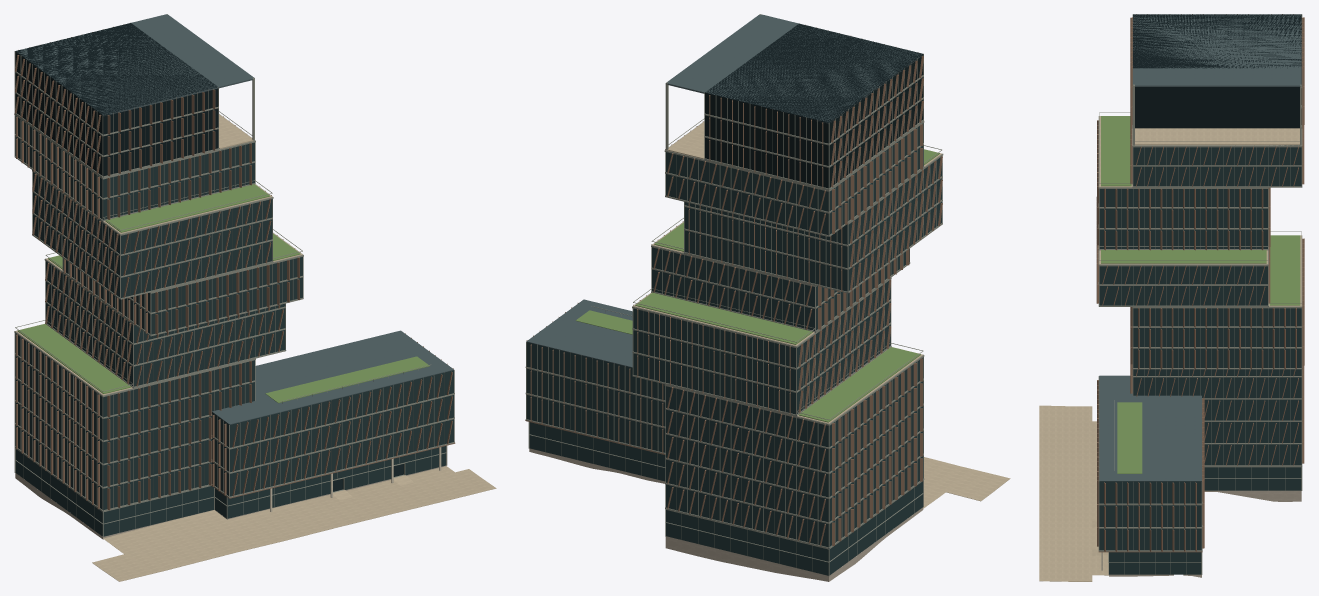
File: cds-full.glb
3 views of the same model, side by side, from view 1: azimuth 30°, elevation 25°; view 2: azimuth 150°, elevation 25°; view 3: azimuth 270°, elevation 25° (orthographic). The views are drawn at different scales.
Parts seen in each view (by area): view 1: BU architecture · glass, BU architecture · bronze, BU architecture · frame, BU architecture · glassShade, BU architecture · roof, BU ground · paving, BU architecture · grass, BU architecture · paving, BU architecture · stone; view 2: BU architecture · glass, BU architecture · bronze, BU architecture · frame, BU architecture · glassShade, BU architecture · roof, BU architecture · grass, BU architecture · stone, BU ground · paving, BU architecture · paving; view 3: BU architecture · glass, BU architecture · roof, BU architecture · glassShade, BU architecture · frame, BU architecture · bronze, BU ground · paving, BU architecture · grass, BU architecture · paving, BU architecture · stone.
Boxes of the visible parts, box(x1,y1,x2,y2) form: BU architecture · glass: box(15, 116, 453, 536); BU architecture · bronze: box(14, 26, 455, 510); BU architecture · frame: box(14, 14, 454, 537); BU architecture · glassShade: box(15, 23, 403, 491); BU architecture · roof: box(16, 14, 453, 511); BU ground · paving: box(92, 466, 496, 581); BU architecture · grass: box(17, 184, 429, 403); BU architecture · paving: box(15, 114, 302, 395); BU architecture · stone: box(15, 465, 446, 539); BU architecture · glass: box(526, 123, 942, 575); BU architecture · bronze: box(525, 24, 942, 545); BU architecture · frame: box(525, 14, 943, 576); BU architecture · glassShade: box(705, 23, 923, 188); BU architecture · roof: box(526, 14, 924, 548); BU architecture · grass: box(575, 149, 939, 422); BU architecture · stone: box(529, 448, 923, 581); BU ground · paving: box(923, 457, 1010, 508); BU architecture · paving: box(633, 122, 941, 423); BU architecture · glass: box(1099, 145, 1301, 574); BU architecture · roof: box(1099, 14, 1302, 481); BU architecture · glassShade: box(1133, 14, 1301, 128); BU architecture · frame: box(1098, 14, 1302, 574); BU architecture · bronze: box(1096, 14, 1304, 552); BU ground · paving: box(1039, 405, 1108, 581); BU architecture · grass: box(1101, 116, 1300, 473); BU architecture · paving: box(1099, 116, 1301, 306); BU architecture · stone: box(1109, 490, 1301, 577).
Size of the model in its own units: 87 by 95.51 by 55.1.
Materials: 9 (6 with a texture image).
